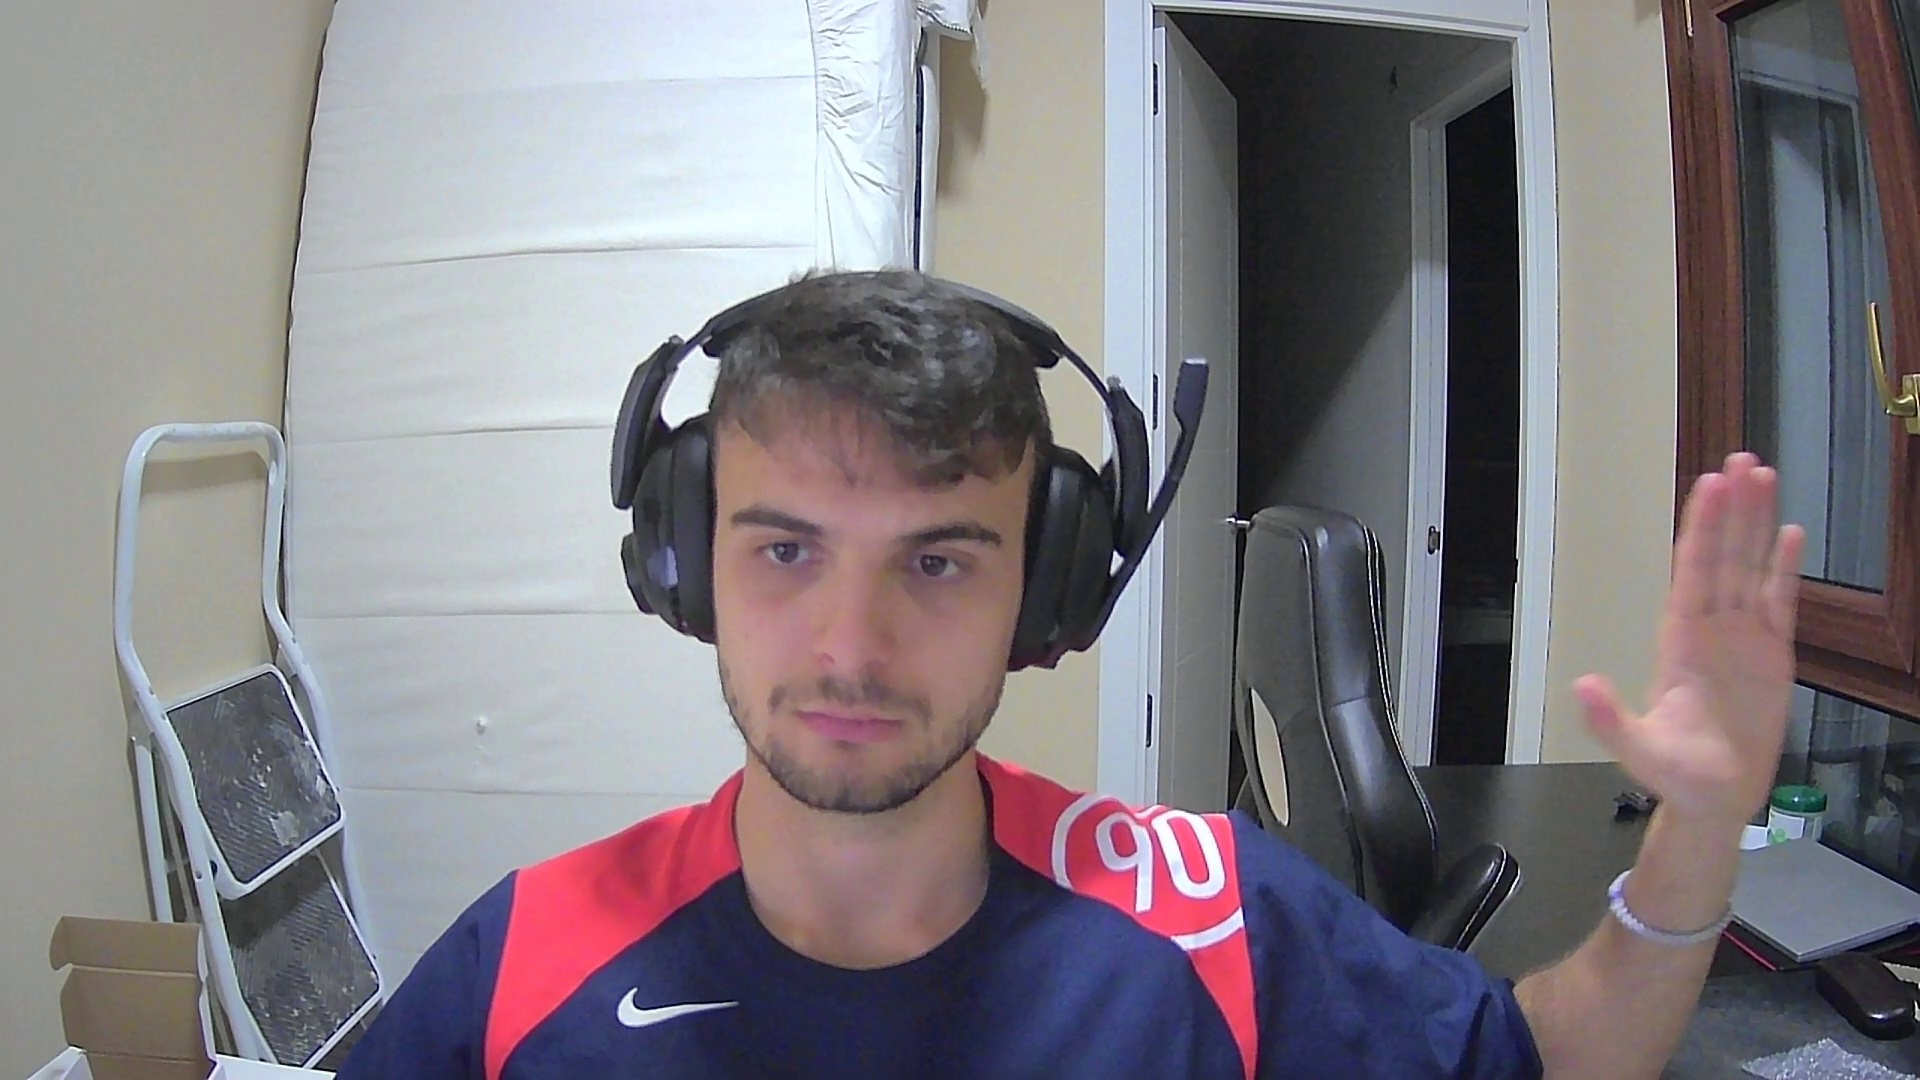Palm: (1577, 444, 1824, 818)
